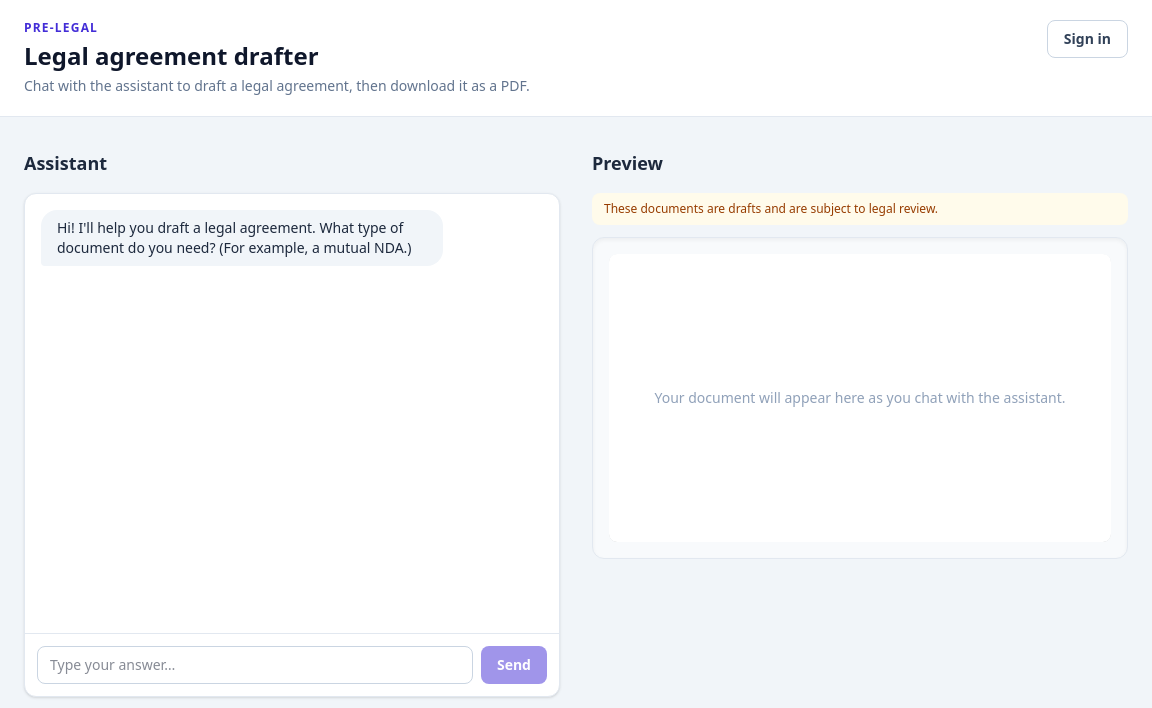
Test: Home page › renders the NDA preview and download for a completed mutual NDA
Type "finalize it" into the field named "Message" at (255, 665), box left=37, top=646, right=473, bottom=684
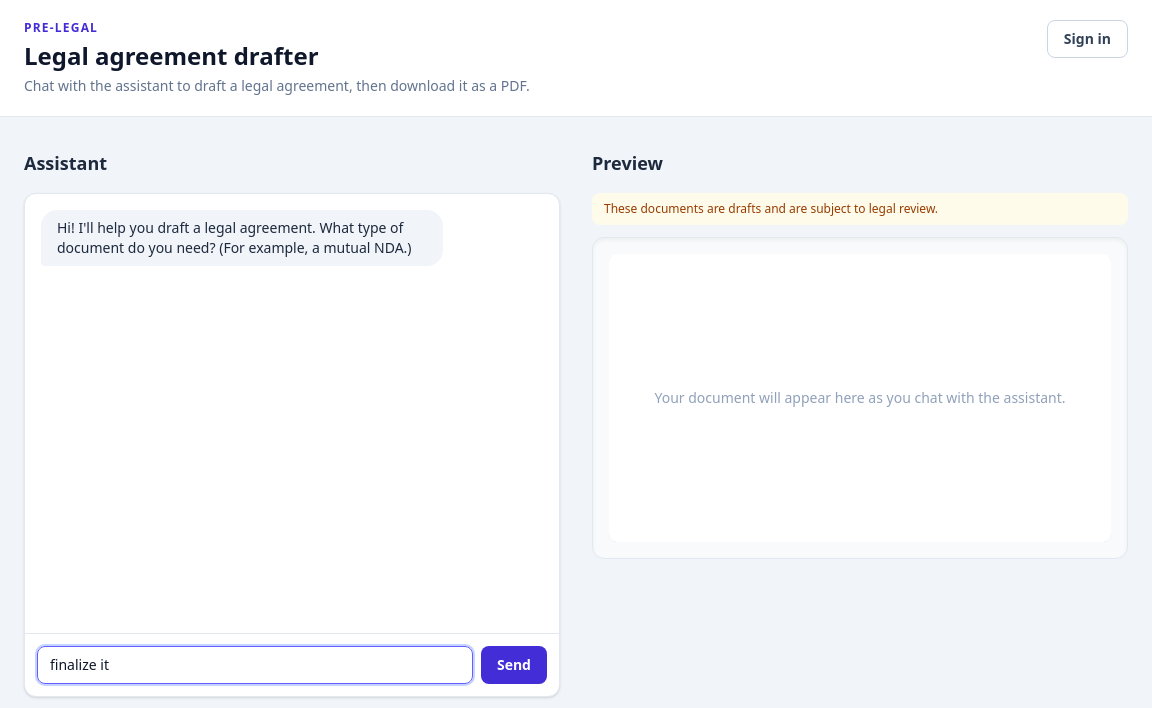
Click the button "Send" at (514, 665), box left=481, top=646, right=547, bottom=684
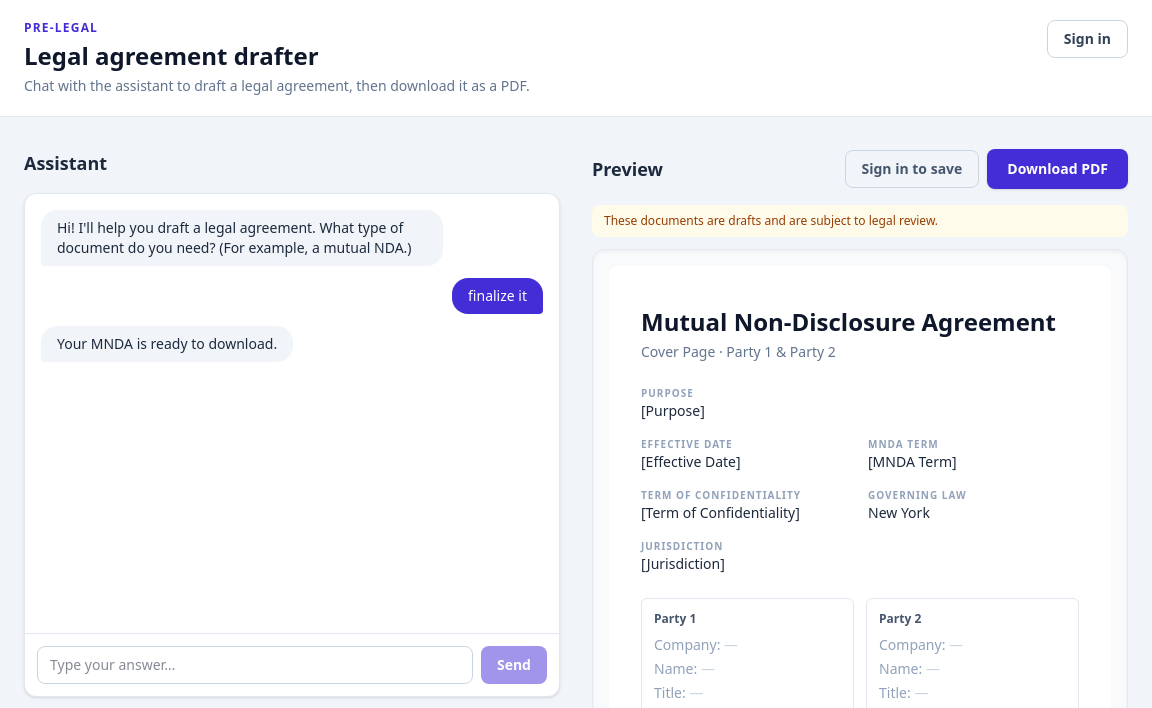
Expected: the text "New York" is shown, left=868, top=503, right=930, bottom=522
Expected: the button "Download PDF" is shown, left=987, top=149, right=1128, bottom=189
